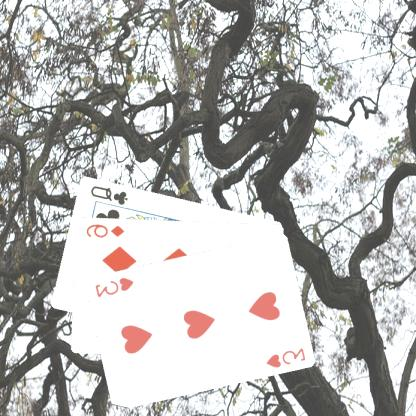3H: (264, 345, 308, 369), (94, 274, 136, 298)
6D: (85, 220, 127, 238)
QC: (90, 182, 132, 206)
